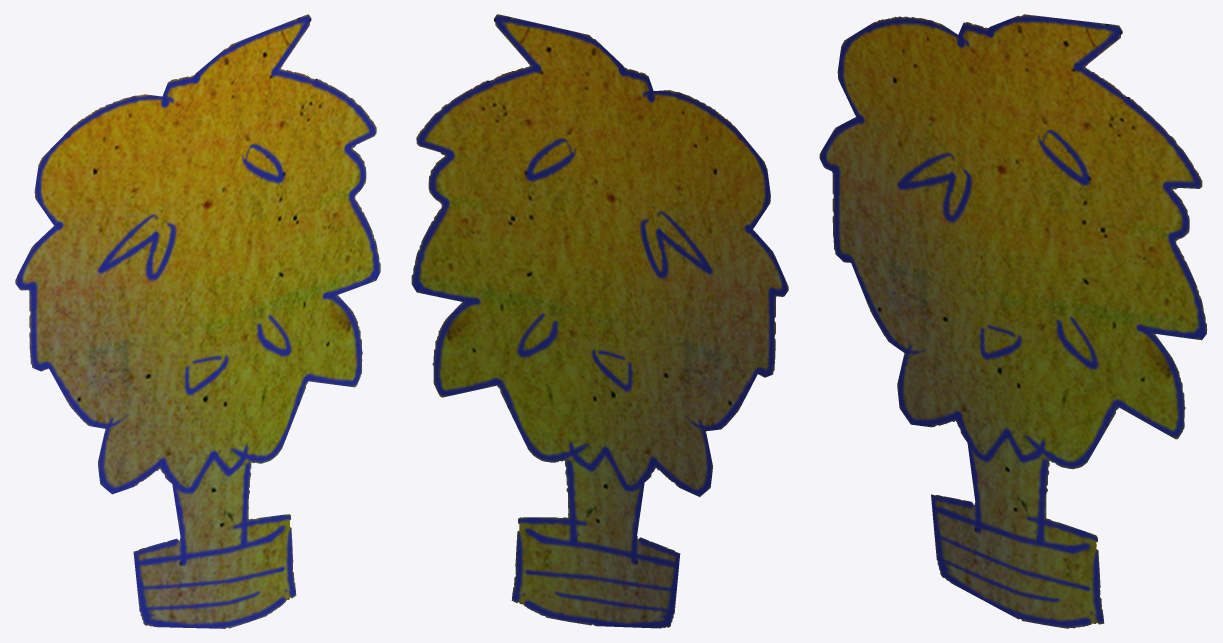
The model's file is 02_plant_04.fbx.
The picture shows the model from 3 angles, left to right: view 1: azimuth 30°, elevation 25°; view 2: azimuth 150°, elevation 25°; view 3: azimuth 330°, elevation 25°; orthographic projection. The views are drawn at different scales.
Visible parts, largest first — view 1: 02_樹_04; view 2: 02_樹_04; view 3: 02_樹_04.
Part boxes in pixels (left/top/right/bottom): 02_樹_04: left=15, top=14, right=380, bottom=628; 02_樹_04: left=411, top=14, right=788, bottom=628; 02_樹_04: left=819, top=14, right=1207, bottom=628.
Bounding box in the file's own units: 222 × 337 × 13.69.
Materials: 1 (1 with a texture image).
